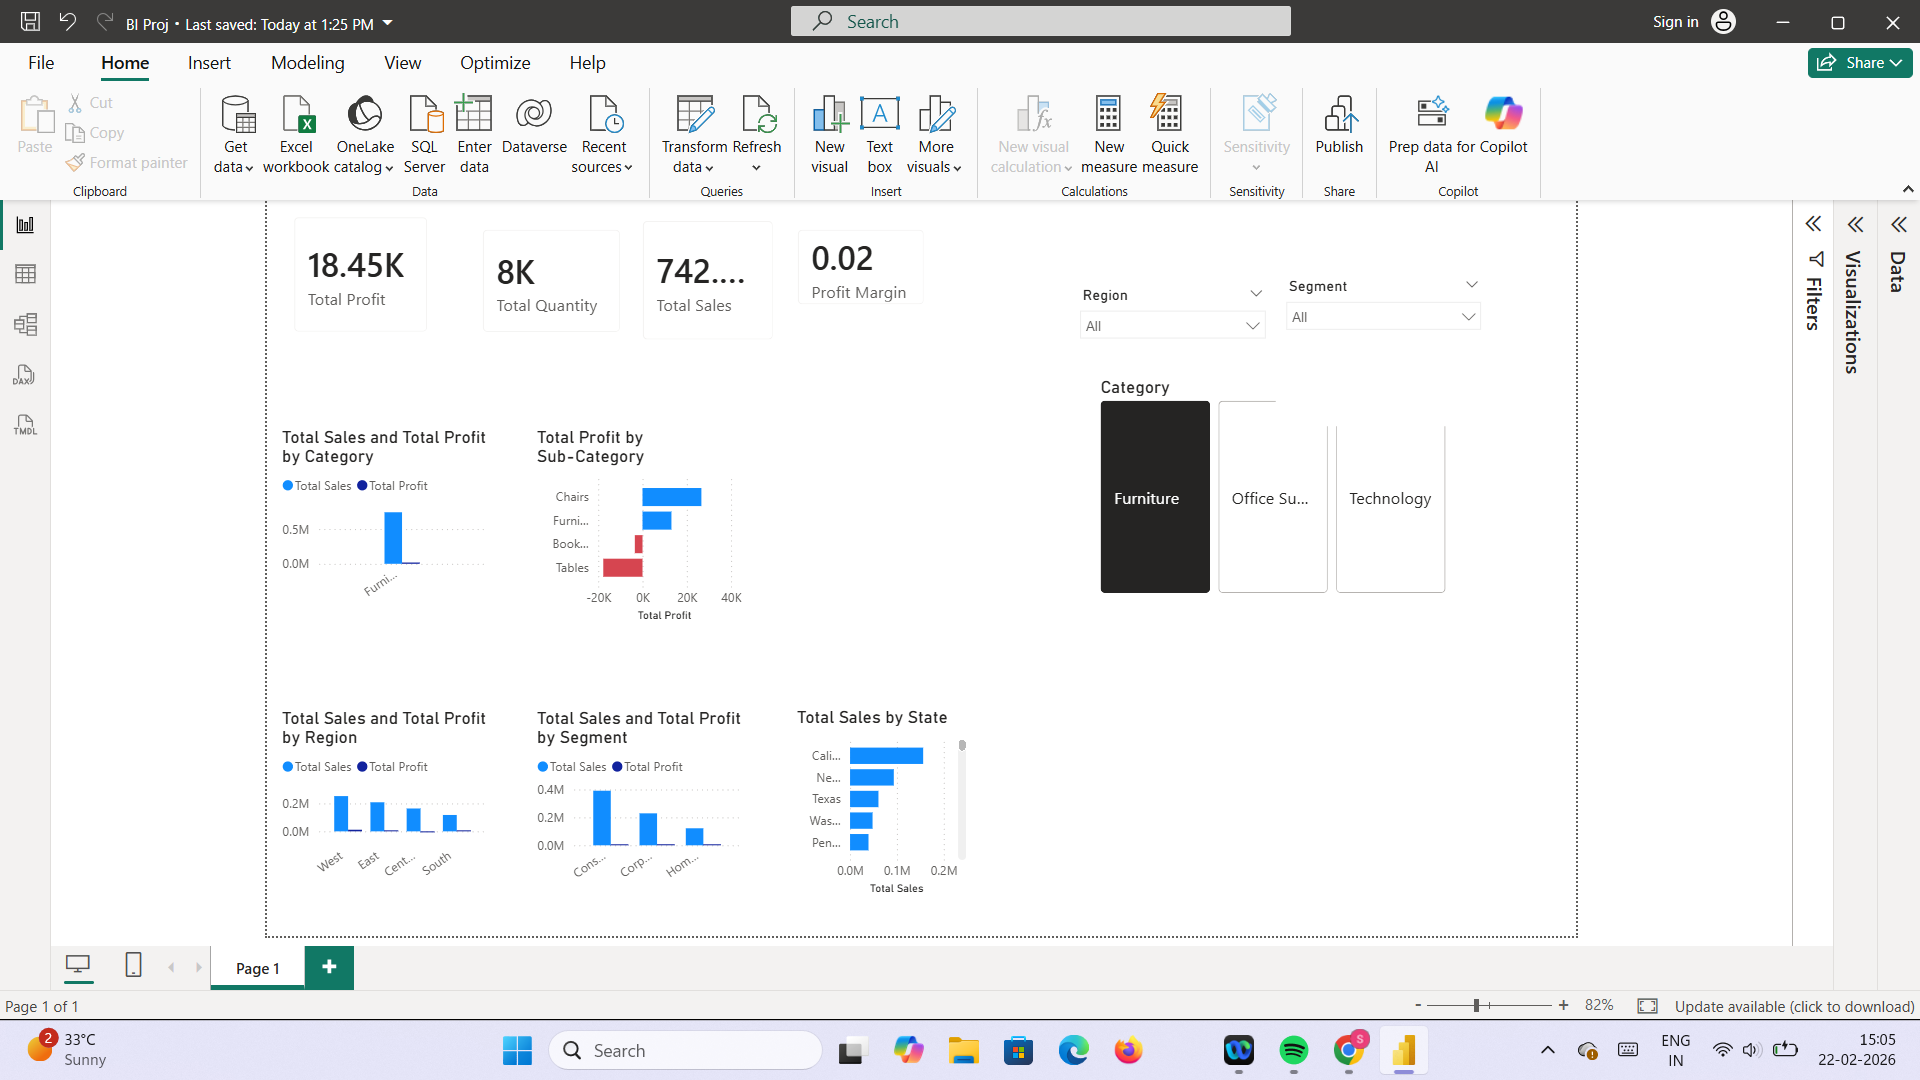

This screenshot's page, from the dashboard's own definition file:
{"tool":"powerbi","page":{"name":"Page 1","canvas":[1280,720],"ordinal":0},"visuals":[{"type":"cardVisual","fields":{"Data":["SampleSuperstore.Total Profit"]},"box":[9.6,0,164.7,146.8],"z":0},{"type":"cardVisual","fields":{"Data":["SampleSuperstore.Total Quantity"]},"box":[194.9,12.3,168.8,134.5],"z":1000},{"type":"cardVisual","fields":{"Data":["SampleSuperstore.Total Sales"]},"box":[351.3,4.1,161.9,150.9],"z":2000},{"type":"cardVisual","fields":{"Data":["SampleSuperstore.Profit Margin"]},"box":[502.2,12.3,157.8,107],"z":3000},{"type":"clusteredColumnChart","fields":{"Category":["SampleSuperstore.Category"],"Y":["SampleSuperstore.Total Sales","SampleSuperstore.Total Profit"]},"box":[9.6,220.9,209.9,179.8],"z":4000},{"type":"clusteredBarChart","fields":{"Category":["SampleSuperstore.Sub-Category"],"Y":["SampleSuperstore.Total Profit"]},"box":[259.3,220.9,209.9,179.8],"z":5000},{"type":"clusteredBarChart","fields":{"Category":["SampleSuperstore.Sub-Category"],"Y":["SampleSuperstore.Total Profit"]},"box":[513.2,220.9,201.7,251.1],"z":6000},{"type":"clusteredColumnChart","fields":{"Category":["SampleSuperstore.Region"],"Y":["SampleSuperstore.Total Sales","SampleSuperstore.Total Profit"]},"box":[10,496,210,180],"z":7000},{"type":"clusteredColumnChart","fields":{"Category":["SampleSuperstore.Segment"],"Y":["SampleSuperstore.Total Sales","SampleSuperstore.Total Profit"]},"box":[259,496,210,180],"z":8000},{"type":"advancedSlicerVisual","fields":{"Values":["SampleSuperstore.Category"]},"box":[811,172.9,349.9,218.2],"z":9000},{"type":"slicer","fields":{"Values":["SampleSuperstore.Region"]},"box":[784.9,79.6,201.7,65.9],"z":10000},{"type":"slicer","fields":{"Values":["SampleSuperstore.Segment"]},"box":[987,71,211,150],"z":11000},{"type":"map","fields":{"Category":["SampleSuperstore.State"],"Size":["SampleSuperstore.Total Sales"]},"box":[513,496,202,180],"z":11001}]}

Visuals, with their boxes on the page's 1280x720 design canvas (x1, y1, x2, y2). These are canvas units, not pixel positions in the 1920x1080 screenshot, which may show the page scaled, cropped or inside an application window:
cardVisual - SampleSuperstore.Total Profit: region(10, 0, 174, 147)
cardVisual - SampleSuperstore.Total Quantity: region(195, 12, 364, 147)
cardVisual - SampleSuperstore.Total Sales: region(351, 4, 513, 155)
cardVisual - SampleSuperstore.Profit Margin: region(502, 12, 660, 119)
clusteredColumnChart - SampleSuperstore.Category x SampleSuperstore.Total Sales: region(10, 221, 220, 401)
clusteredBarChart - SampleSuperstore.Sub-Category x SampleSuperstore.Total Profit: region(259, 221, 469, 401)
clusteredBarChart - SampleSuperstore.Sub-Category x SampleSuperstore.Total Profit: region(513, 221, 715, 472)
clusteredColumnChart - SampleSuperstore.Region x SampleSuperstore.Total Sales: region(10, 496, 220, 676)
clusteredColumnChart - SampleSuperstore.Segment x SampleSuperstore.Total Sales: region(259, 496, 469, 676)
advancedSlicerVisual - SampleSuperstore.Category: region(811, 173, 1161, 391)
slicer - SampleSuperstore.Region: region(785, 80, 987, 146)
slicer - SampleSuperstore.Segment: region(987, 71, 1198, 221)
map - SampleSuperstore.State x SampleSuperstore.Total Sales: region(513, 496, 715, 676)
